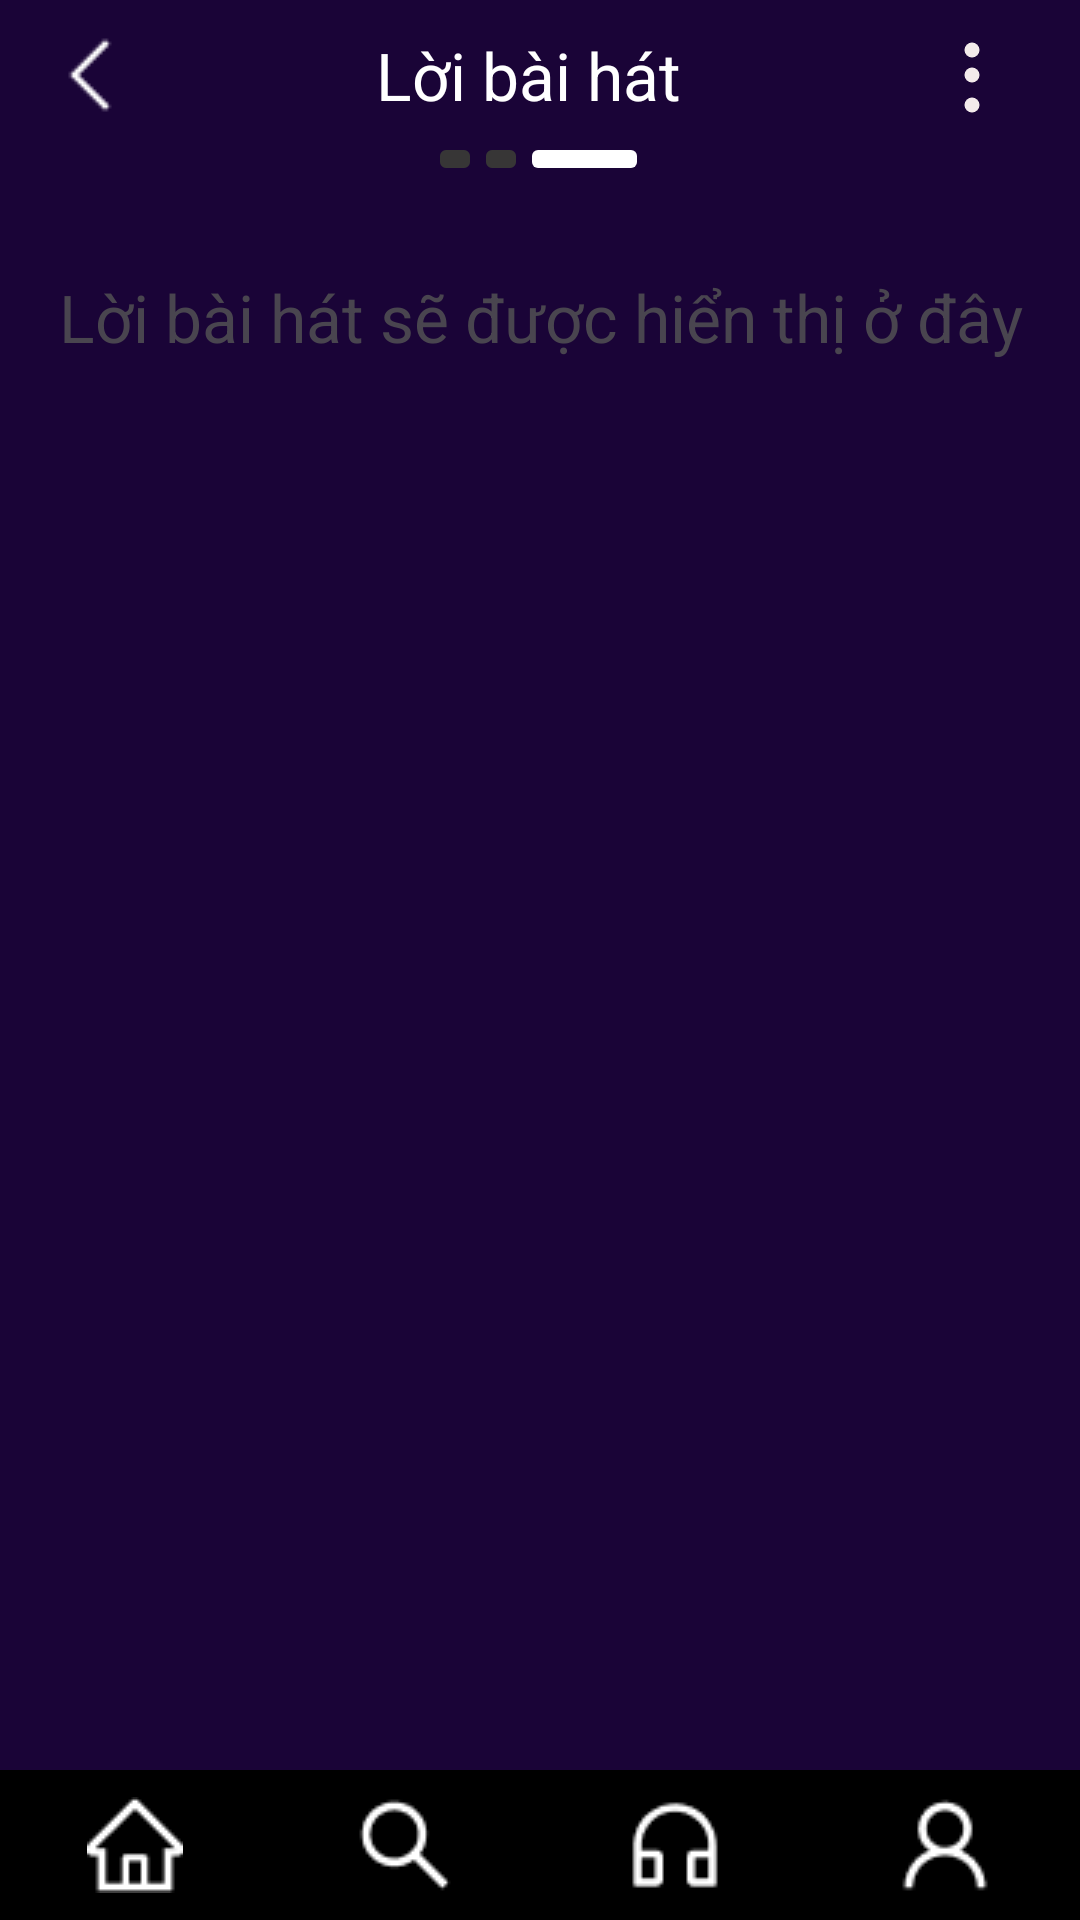

Where to tap for icons on this 1080 × 1920 app screen, as (x,y):
accounticon: (945,1845)
Go back to previous screen: (90,75)
headphoneimgbtn: (675,1845)
homebtnimg: (135,1845)
searchimgbtn: (404,1845)
